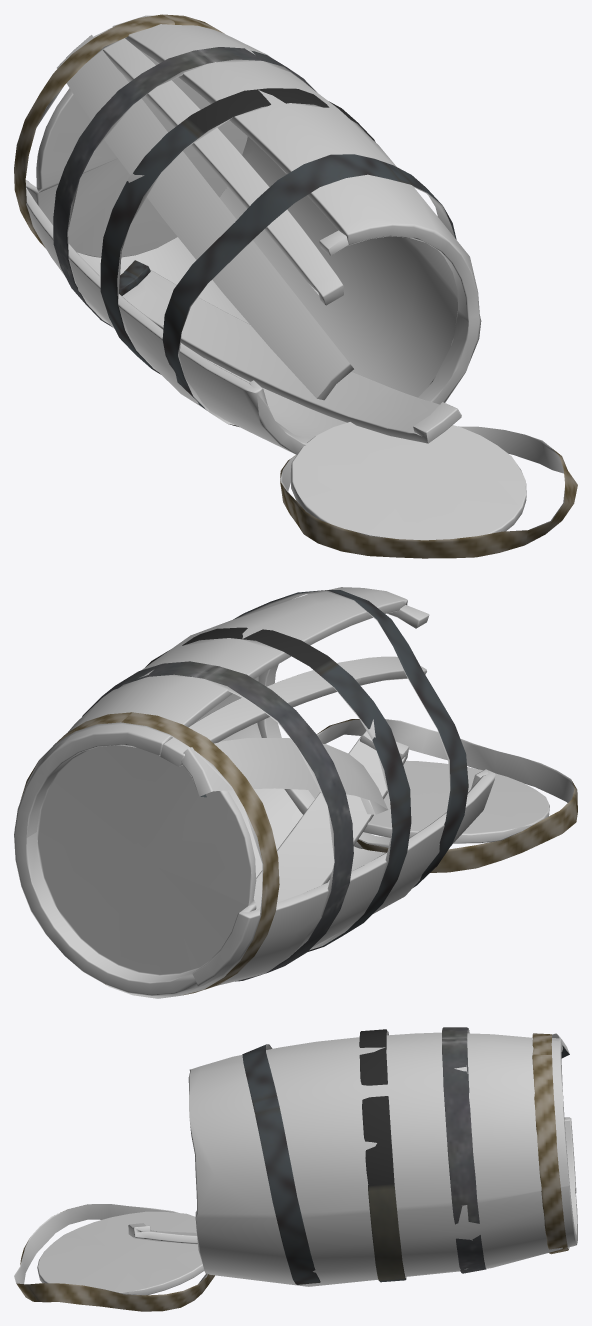
Rendered from SM_Prop-BarrelFull-Broken.fbx.
3 renders of one model, top to bottom at view 1: azimuth 30°, elevation 25°; view 2: azimuth 150°, elevation 25°; view 3: azimuth 270°, elevation 25°, orthographic. The views are drawn at different scales.
Parts seen in each view (by area): view 1: SM_Prop-BarrelFull-Broken_LOD0; view 2: SM_Prop-BarrelFull-Broken_LOD0; view 3: SM_Prop-BarrelFull-Broken_LOD0.
Boxes of the visible parts, x1,y1,x2,y2 form: SM_Prop-BarrelFull-Broken_LOD0: (14,14,577,558); SM_Prop-BarrelFull-Broken_LOD0: (14,587,577,998); SM_Prop-BarrelFull-Broken_LOD0: (14,1027,577,1311).
Bounding box in the file's own units: 61.33 × 136 × 62.62.
Materials: 2 (1 with a texture image).
